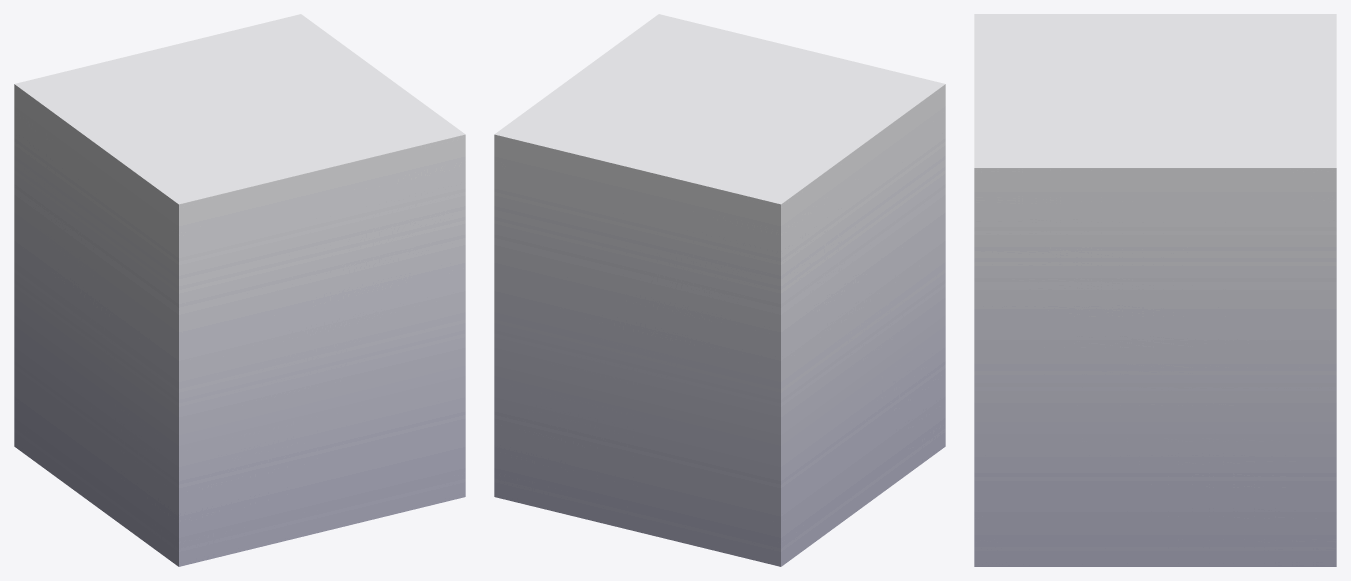
The model's file is brick-kit--none-lq-brick-1x1.glb.
The picture shows the model from 3 angles, left to right: view 1: azimuth 30°, elevation 25°; view 2: azimuth 150°, elevation 25°; view 3: azimuth 270°, elevation 25°; orthographic projection. The views are drawn at different scales.
Parts seen in each view (by area): view 1: none-lq-brick-1x1; view 2: none-lq-brick-1x1; view 3: none-lq-brick-1x1.
Part boxes in pixels (x1,y1,x2,y2): none-lq-brick-1x1: (14, 14, 465, 566); none-lq-brick-1x1: (494, 14, 945, 566); none-lq-brick-1x1: (974, 14, 1336, 566).
Bounding box in the file's own units: 0.0795 × 0.096 × 0.079.
1 material, 1 textured.
